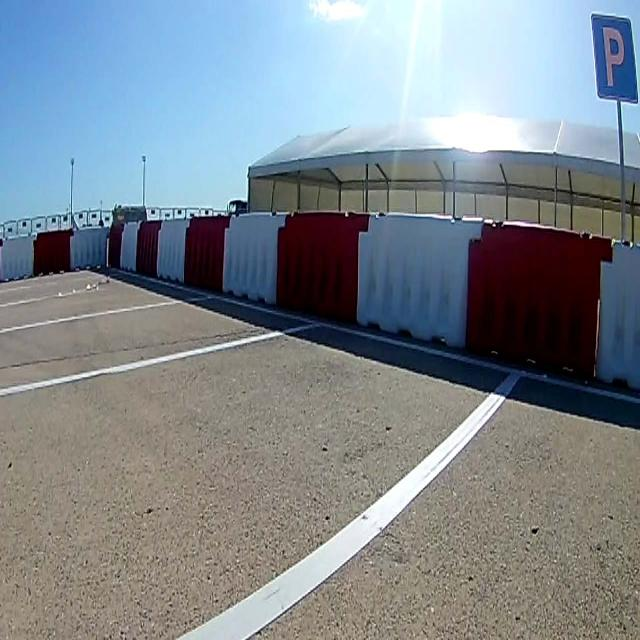park: (591, 13, 639, 107)
